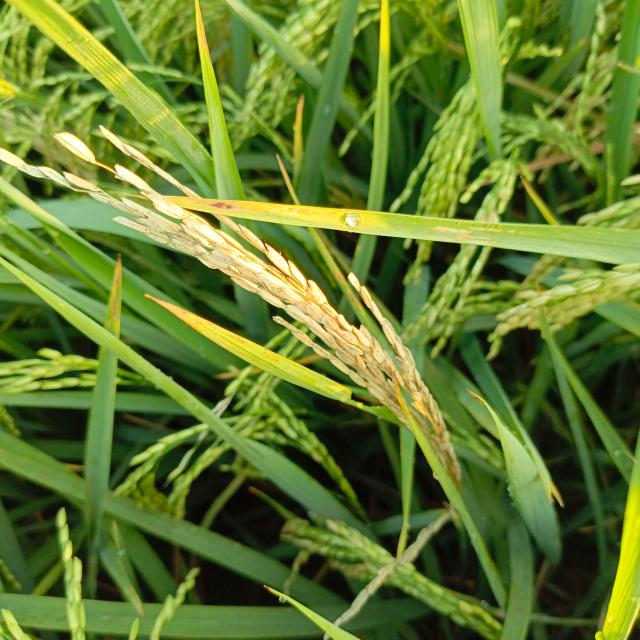Hama Putih Palsu: (428, 216, 528, 243)
Hawar Daun Bakteri: (100, 250, 128, 339)
